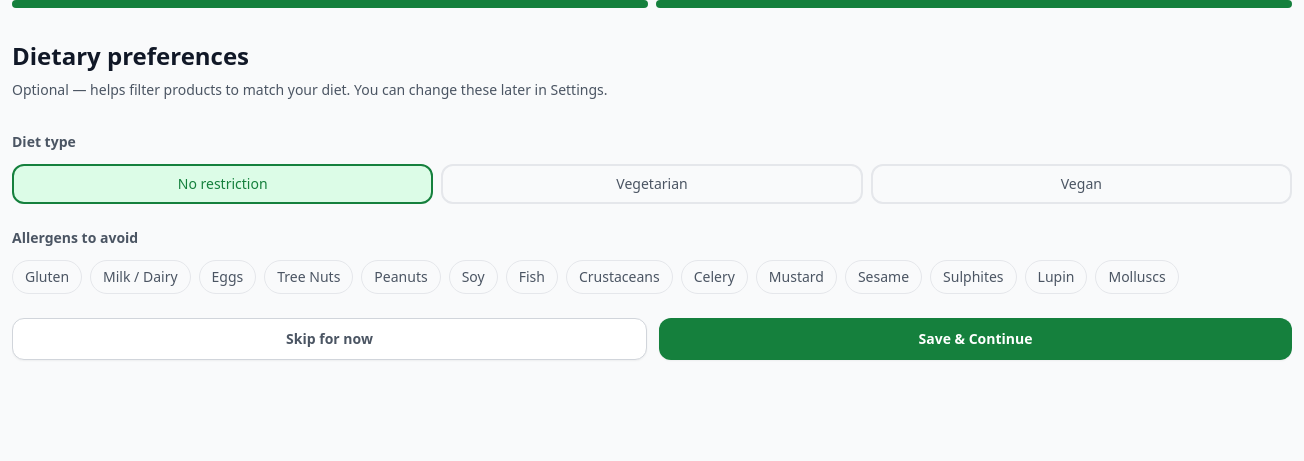
PreferencesForm › toggles allergen on and off
# Click to select
Click the button "Eggs" at (227, 277), box [199,260,256,294]
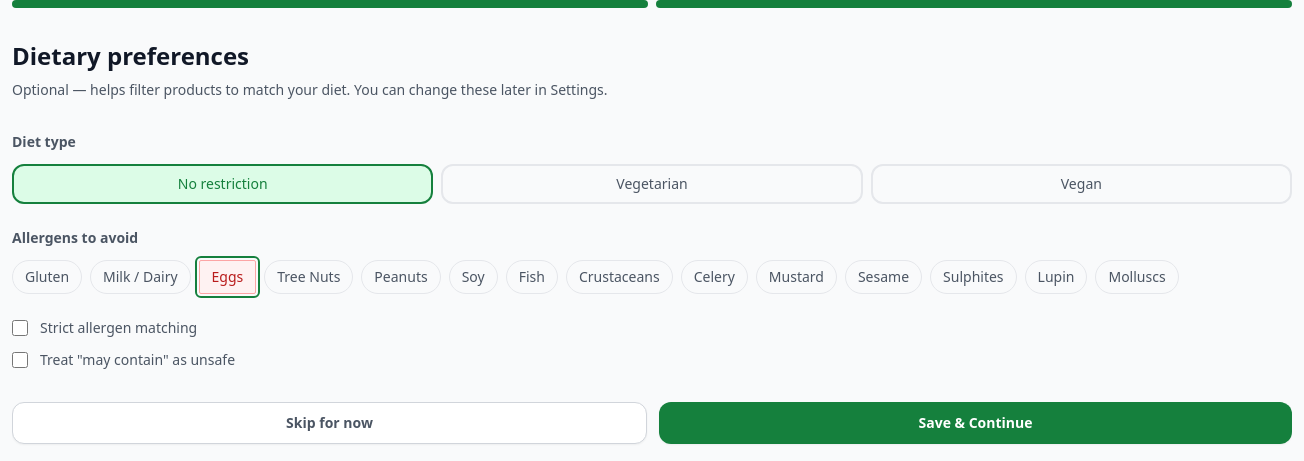
Now the text "Strict allergen matching" is shown, box [40,318,197,338]
# Click again to deselect
Click the button "Eggs" at (227, 277), box [199,260,256,294]
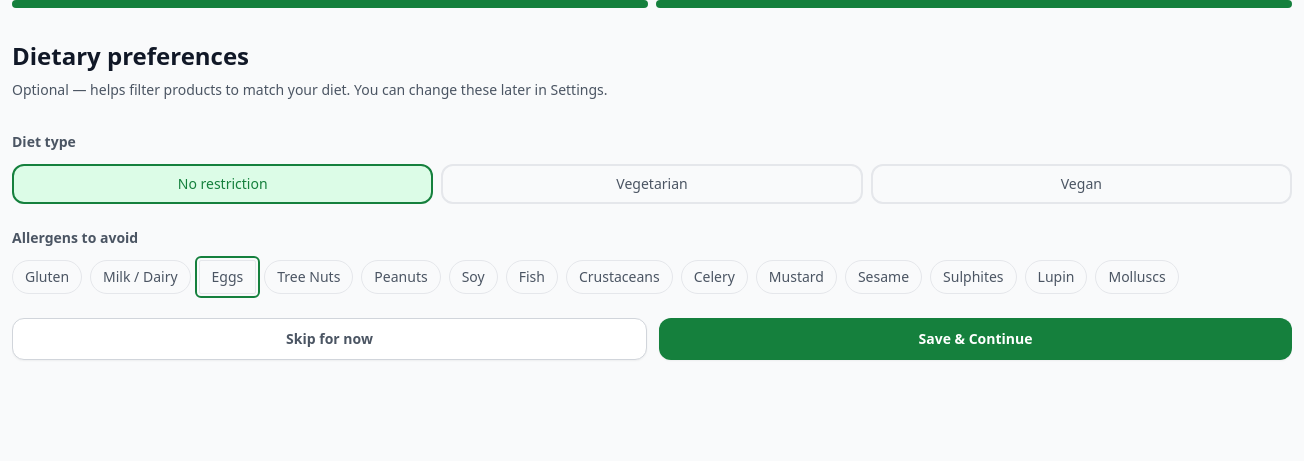
Now the text "Strict allergen matching" is gone
